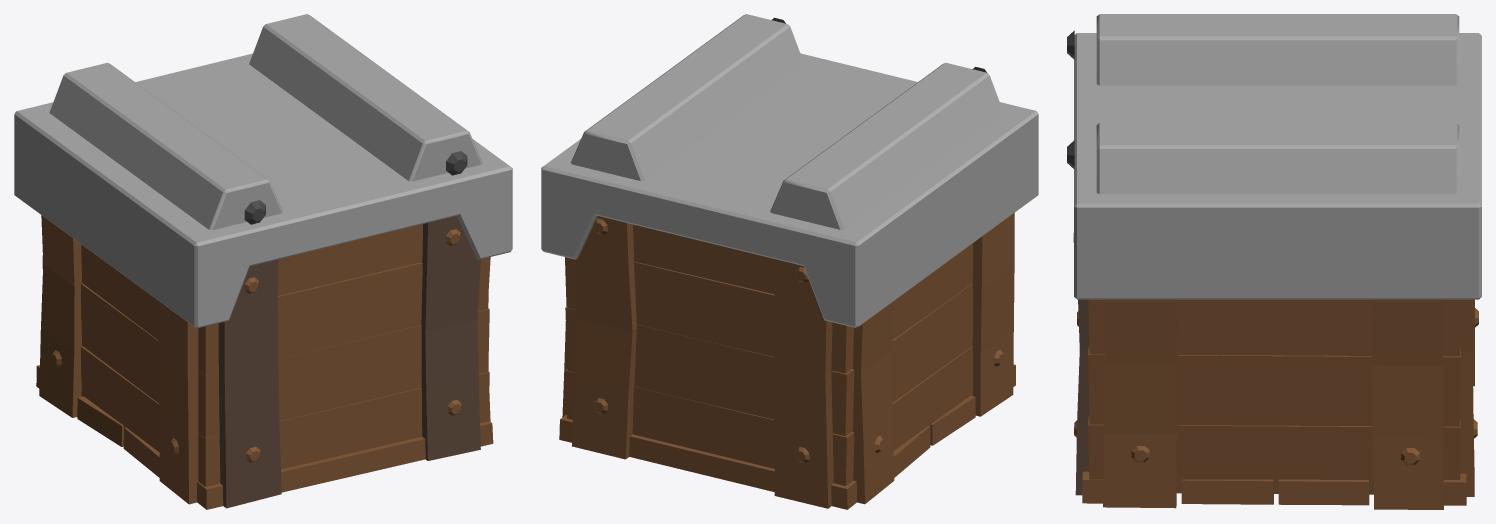
File: box_uved.fbx
3 views of the same model, side by side, from view 1: azimuth 30°, elevation 25°; view 2: azimuth 150°, elevation 25°; view 3: azimuth 270°, elevation 25° (orthographic). The views are drawn at different scales.
Parts seen in each view (by area): view 1: box_uved_mesh; view 2: box_uved_mesh; view 3: box_uved_mesh.
Boxes of the visible parts, left/top/right/bottom form: box_uved_mesh: left=14, top=14, right=512, bottom=509; box_uved_mesh: left=541, top=14, right=1038, bottom=509; box_uved_mesh: left=1067, top=14, right=1481, bottom=509.
Size of the model in its own units: 0.6594 by 0.6174 by 0.6667.
